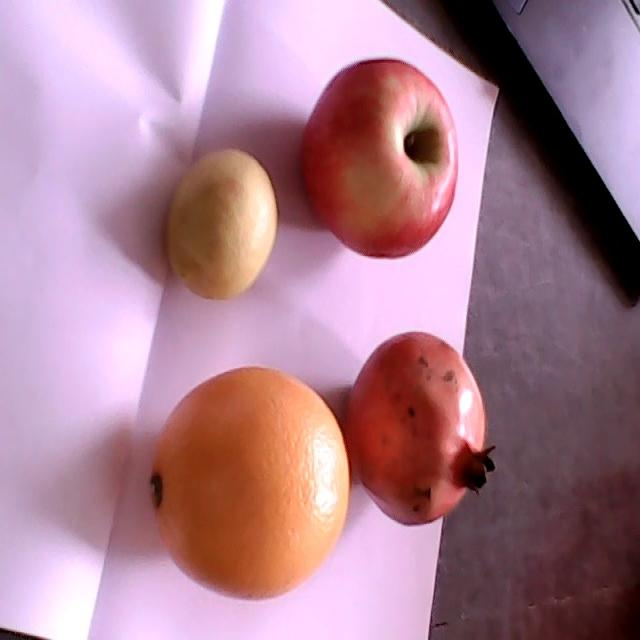apple: (299, 59, 460, 259)
kiwi: (166, 145, 279, 301)
orange: (150, 366, 351, 601)
pomegranate: (346, 334, 497, 526)
